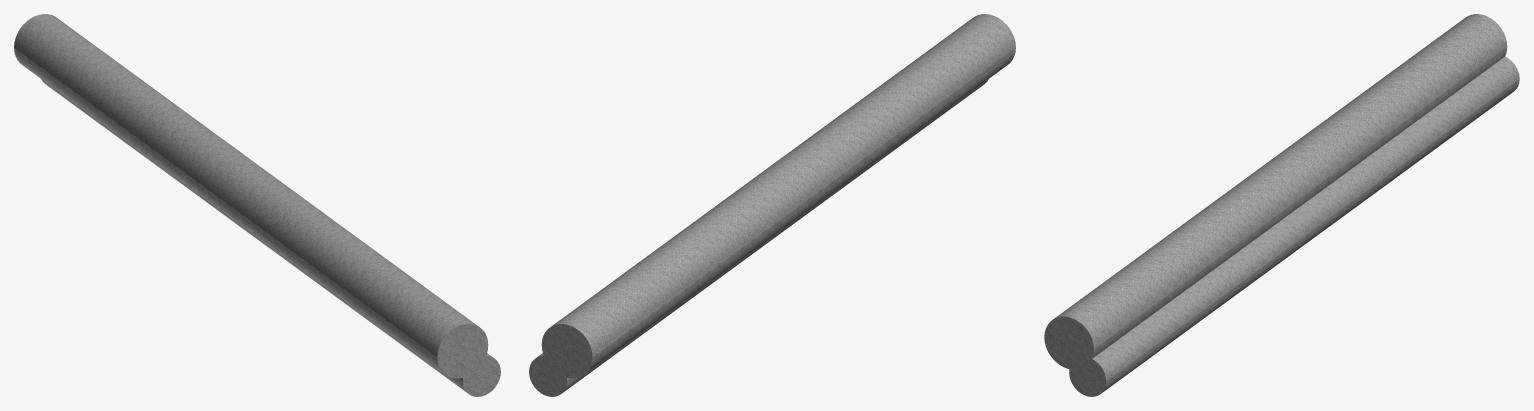
The picture shows the model from 3 angles, left to right: view 1: azimuth 30°, elevation 25°; view 2: azimuth 150°, elevation 25°; view 3: azimuth 330°, elevation 25°; orthographic projection. The views are drawn at different scales.
Parts seen in each view (by area): view 1: 0_1_3_3_3_0_3_1; view 2: 0_1_3_3_3_0_3_1; view 3: 0_1_3_3_3_0_3_1.
Part boxes in pixels (box(x1,y1,x2,y2)): 0_1_3_3_3_0_3_1: box(14, 14, 500, 396); 0_1_3_3_3_0_3_1: box(529, 14, 1015, 396); 0_1_3_3_3_0_3_1: box(1044, 14, 1519, 396).
Size of the model in its own units: 1 by 1.15 by 11.53.
Materials: 2 (2 with a texture image).
